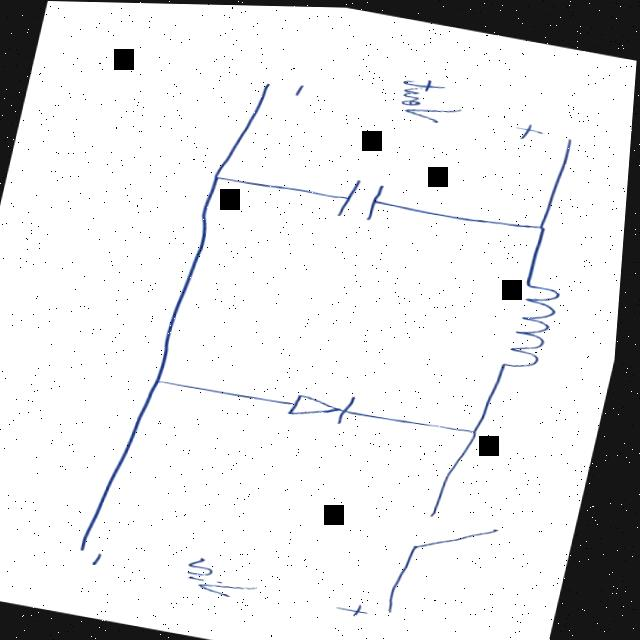capacitor: (318, 163, 425, 234)
diode: (276, 379, 382, 436)
inductor: (463, 268, 602, 401)
switch: (385, 476, 540, 583)
